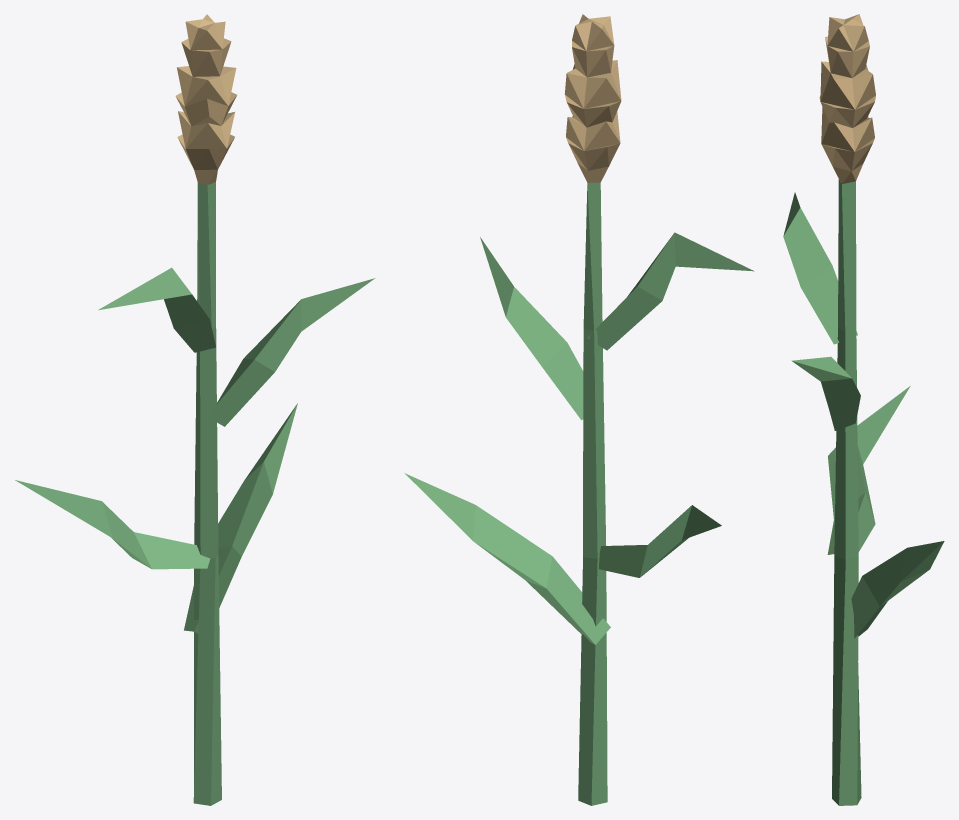
File: wheat-plant.glb
3 renders of one model, left to right at view 1: azimuth 30°, elevation 25°; view 2: azimuth 150°, elevation 25°; view 3: azimuth 270°, elevation 25°, orthographic.
Parts seen in each view (by area): view 1: wheat_plant; view 2: wheat_plant; view 3: wheat_plant.
Boxes of the visible parts, x1,y1,x2,y2 form: wheat_plant: [15, 14, 375, 805]; wheat_plant: [404, 14, 754, 805]; wheat_plant: [783, 14, 944, 805].
Bounding box in the file's own units: 77.42 × 191 × 35.76.
